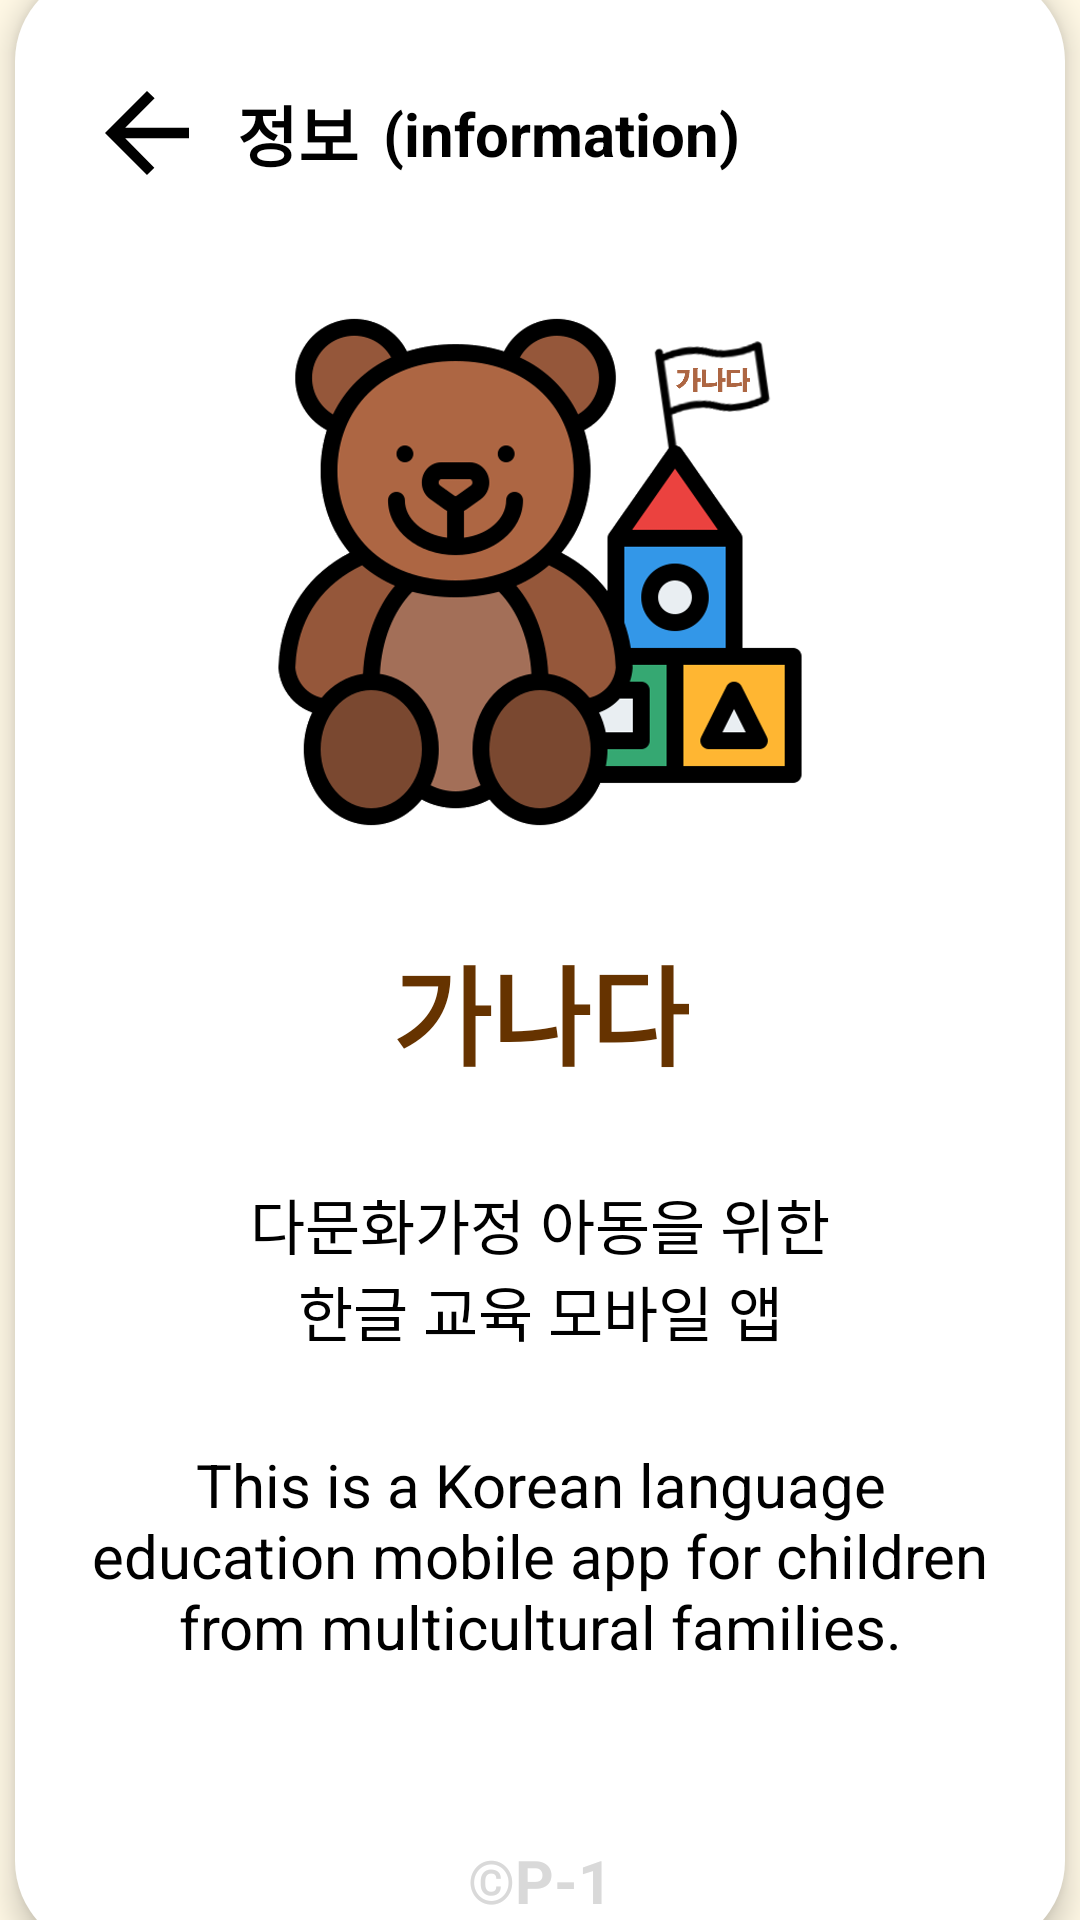

Icon click points for this 1080px×1920px phone screenshot, format (x,y):
back: (147,133)
